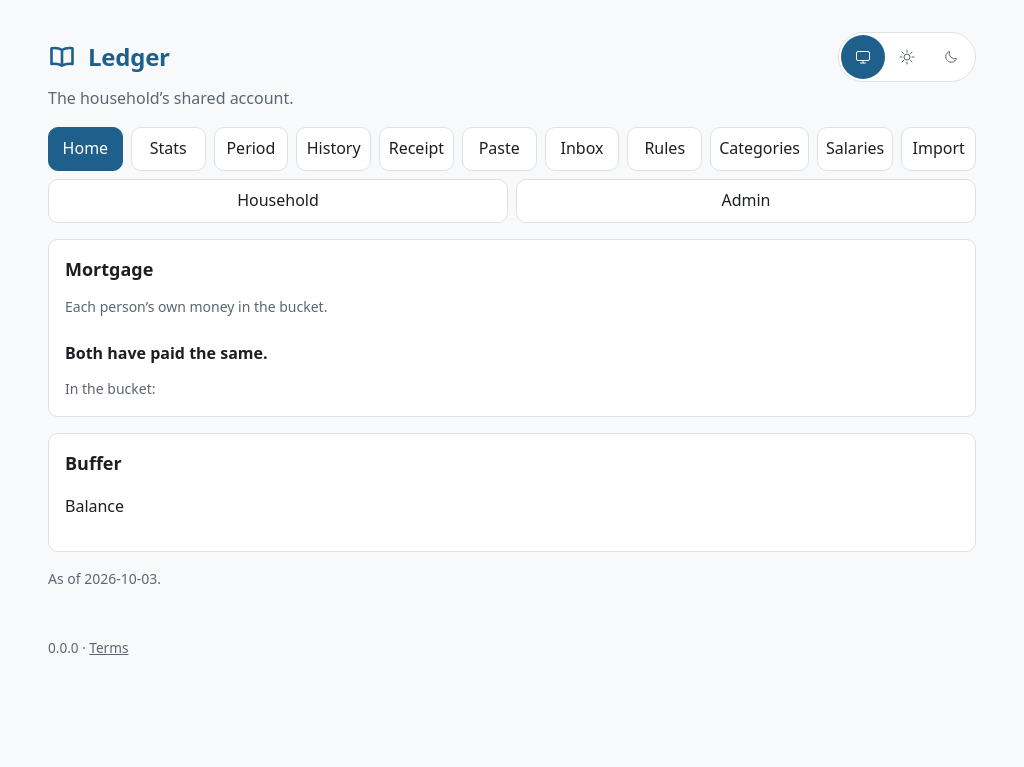
Test: an admin who is a member has the admin tab as well (lg-22)
Click the button "Admin" at (746, 201), box [516, 179, 976, 223]
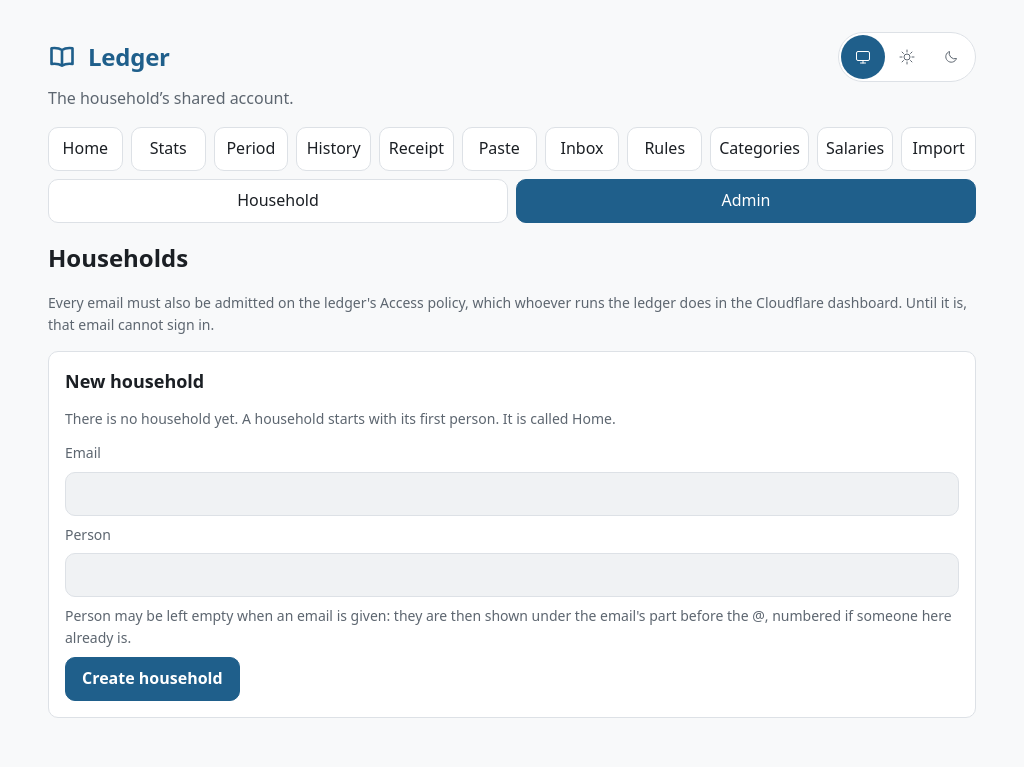
Now the heading "Households" is shown, box [48, 241, 188, 274]
Now the heading "Mortgage" is gone
